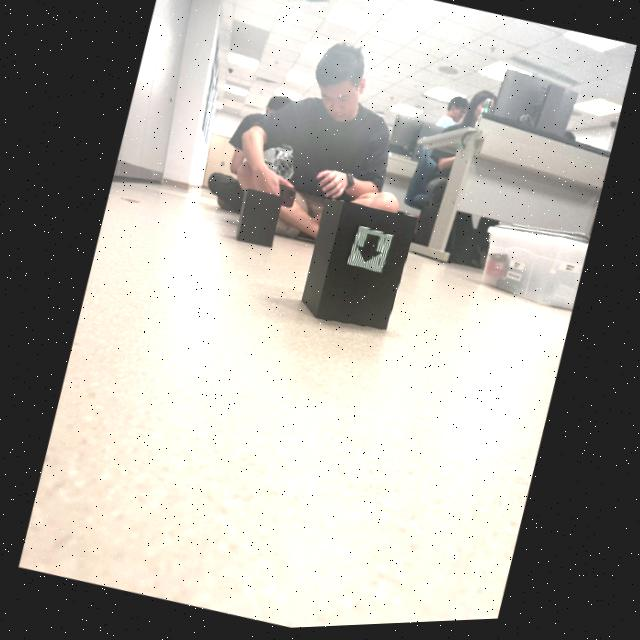DOWN: (356, 238, 380, 266)
